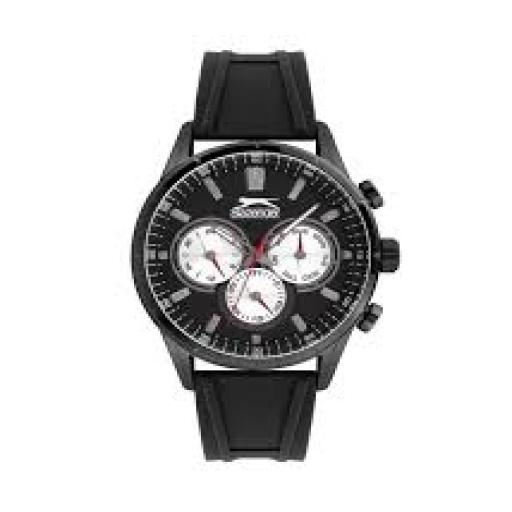KolSaati: (113, 22, 423, 482)
